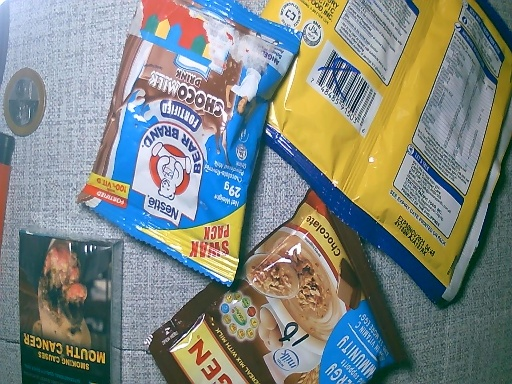cardboard: (17, 232, 126, 384)
metal: (4, 64, 48, 136)
plastic: (267, 1, 505, 302), (76, 1, 254, 286), (145, 196, 407, 384)
trash: (1, 135, 19, 262)
